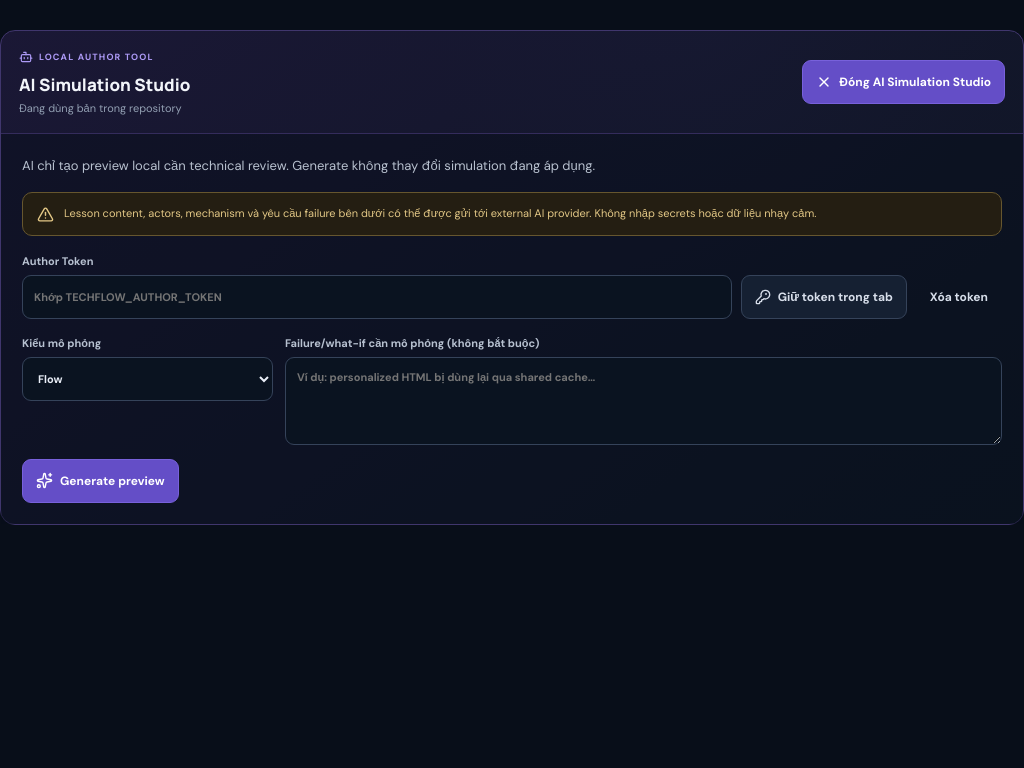
Test: LessonSimulationStudio › ignores a late response when generation settings change
Type "token" into the password field labelled "Author Token" at (377,297), box [22,275,732,319]
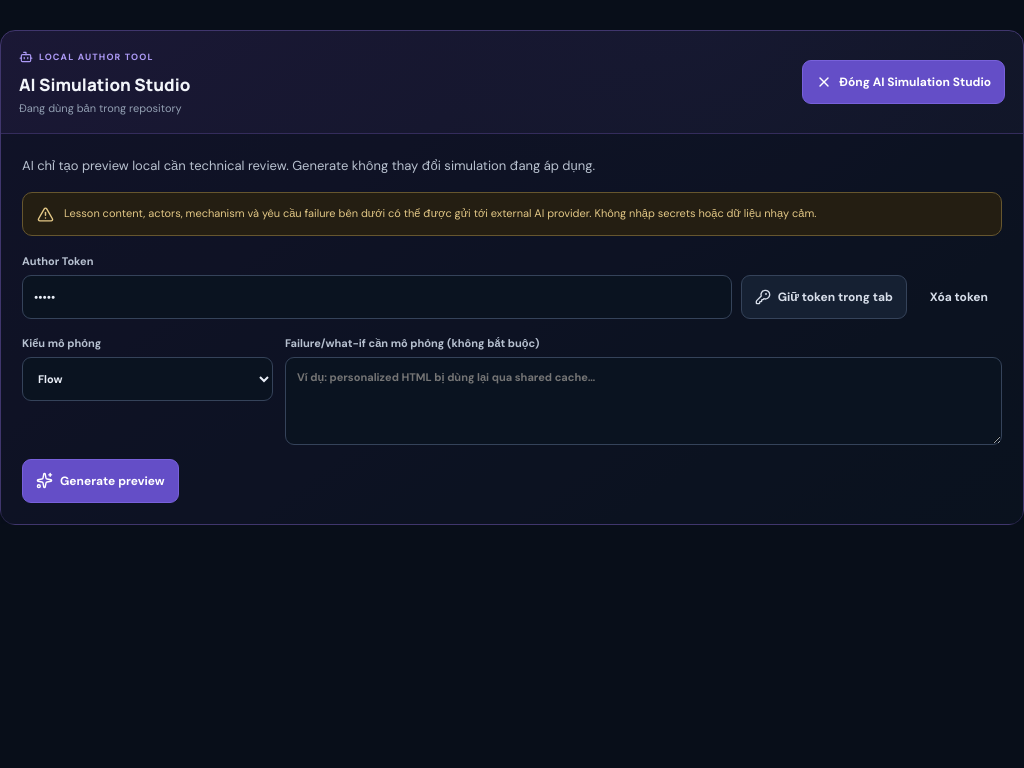
Click the button "Generate preview" at (100,481), box [22,459,179,503]
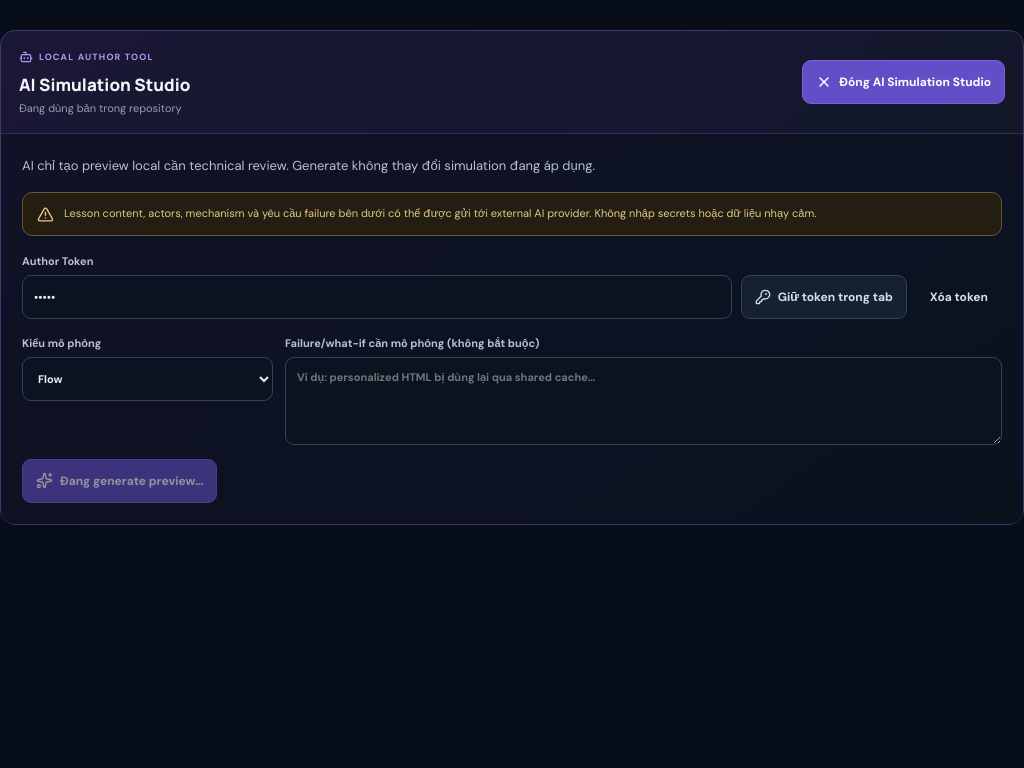
Select "State machine" in the dropdown labelled "Kiểu mô phỏng" at (148,379), box [22,357,273,401]
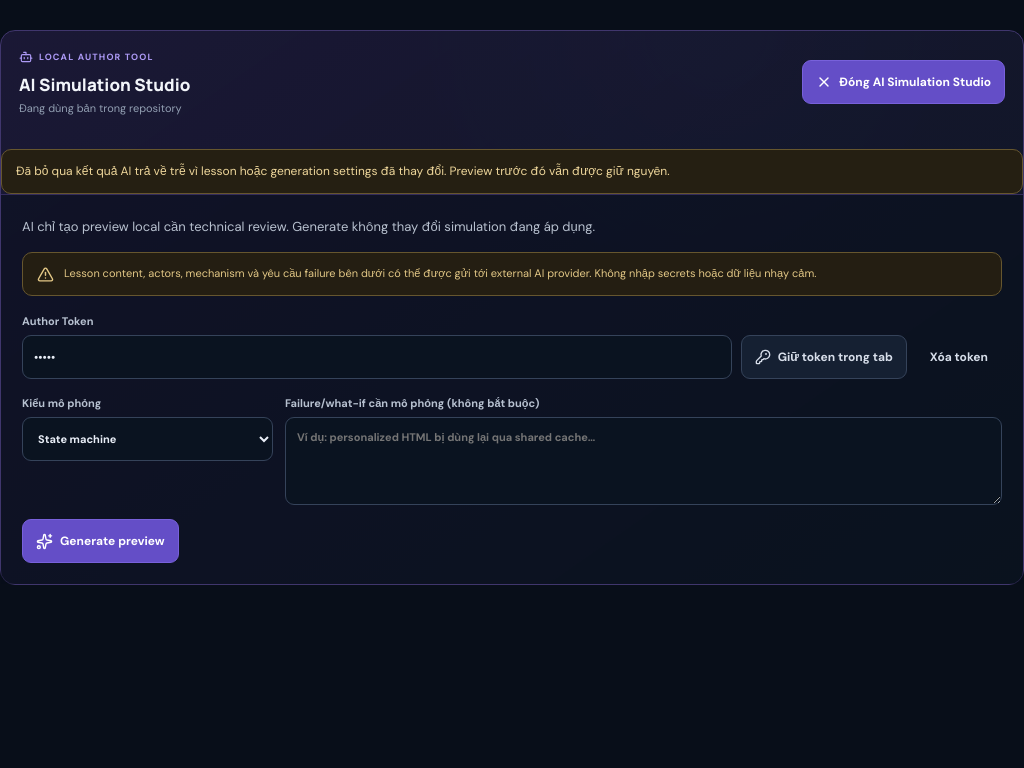
Expected: the text "Đã bỏ qua kết quả AI trả về trễ" is shown, [16,163,670,179]
